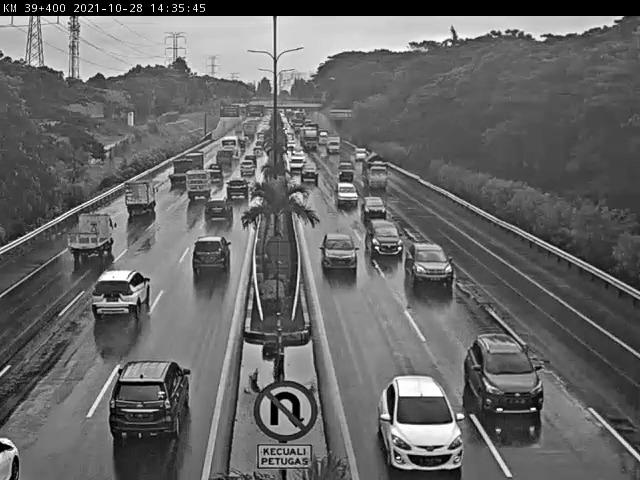big truck: (301, 127, 322, 153)
car: (367, 371, 466, 478), (94, 355, 200, 447), (463, 330, 550, 425), (89, 271, 167, 323), (405, 233, 455, 292), (0, 430, 46, 480), (186, 235, 233, 279), (317, 233, 361, 276), (366, 216, 406, 263), (220, 176, 252, 205), (360, 194, 390, 224), (205, 201, 233, 227), (332, 181, 357, 208), (336, 159, 357, 182), (299, 165, 324, 183), (230, 162, 258, 178), (206, 163, 224, 182), (289, 154, 304, 171), (352, 145, 366, 161)
small truck: (63, 211, 120, 264), (124, 176, 164, 215), (185, 170, 218, 202), (363, 154, 388, 190), (169, 161, 198, 185), (180, 148, 206, 170), (324, 136, 346, 156)
